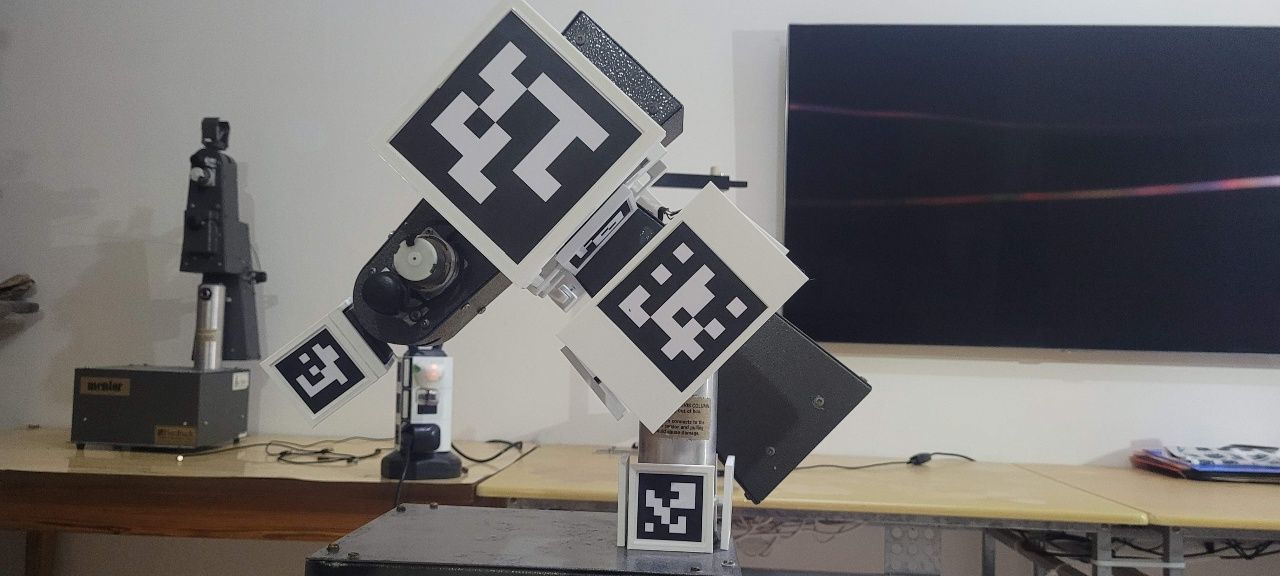Robot: (256, 5, 874, 556)
